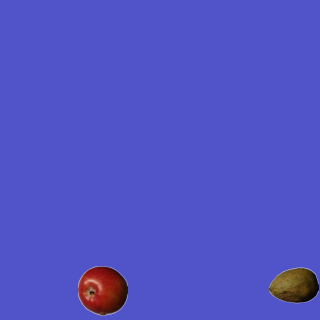Apple Braeburn: (77, 265, 127, 315)
Papaya: (268, 260, 318, 310)
